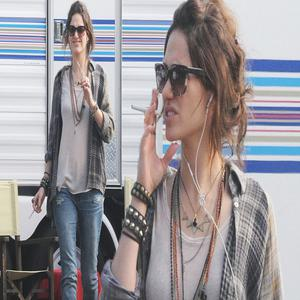cigarette: (128, 101, 161, 118), (26, 204, 41, 220)
